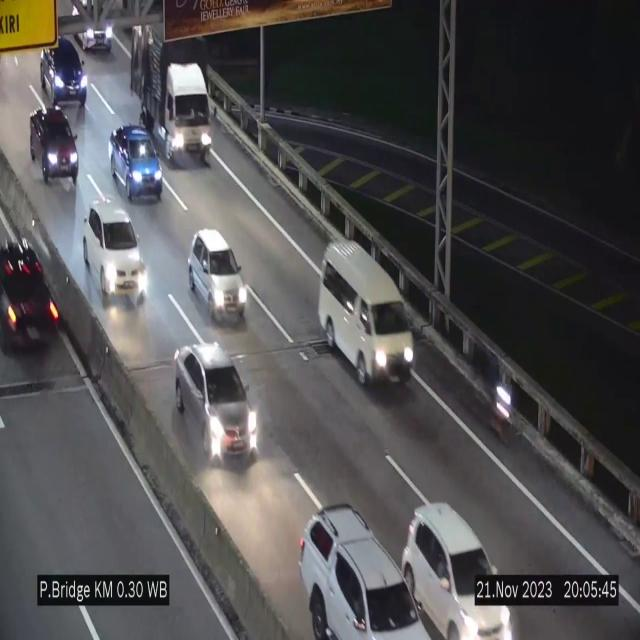Car: (318, 241, 416, 386), (169, 342, 257, 467), (84, 197, 146, 306), (188, 229, 248, 323), (28, 106, 80, 186), (110, 125, 162, 202), (40, 41, 86, 105)
Motorcycle: (482, 349, 515, 446)
Truck: (131, 22, 211, 165)
